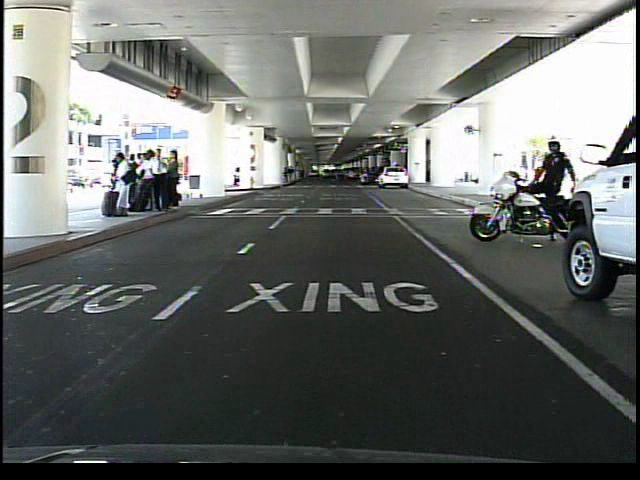person: (531, 130, 575, 249)
